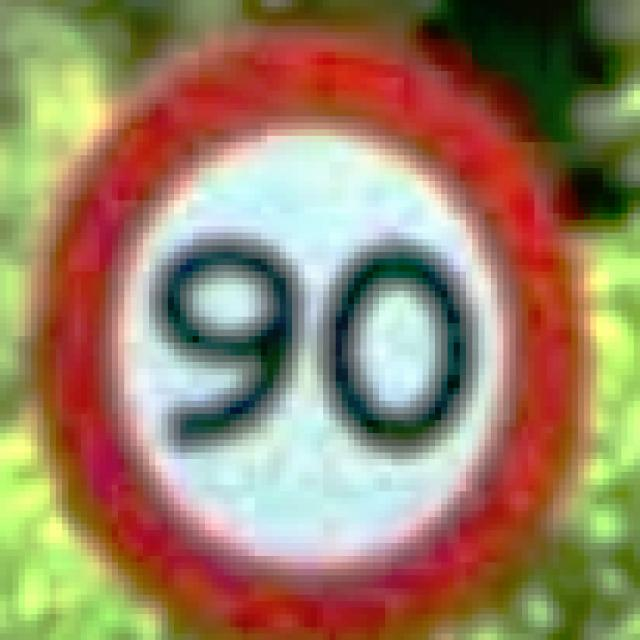max90: (25, 13, 590, 633)
